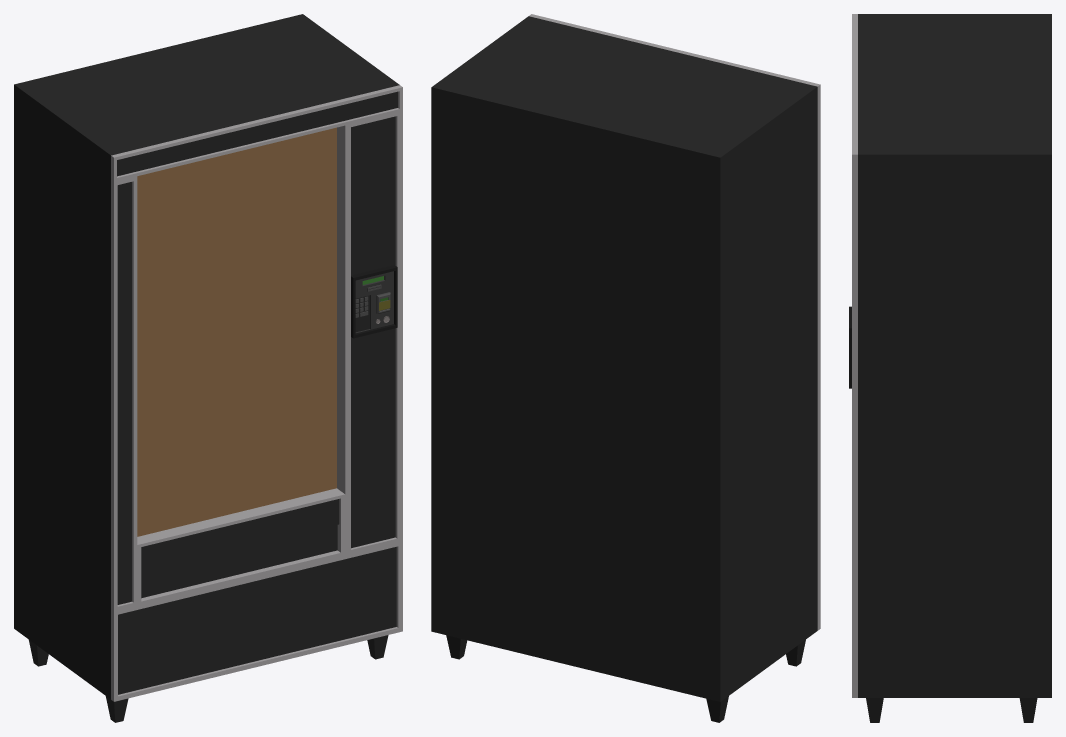
The model's file is CityObjects.fbx_VendingMachine.fbx.
The picture shows the model from 3 angles, left to right: view 1: azimuth 30°, elevation 25°; view 2: azimuth 150°, elevation 25°; view 3: azimuth 270°, elevation 25°; orthographic projection.
Visible parts, largest first — view 1: VendingMachine; view 2: VendingMachine; view 3: VendingMachine.
Boxes of the visible parts, x1=… form: VendingMachine: x1=14, y1=14, x2=402, y2=722; VendingMachine: x1=431, y1=14, x2=820, y2=722; VendingMachine: x1=849, y1=14, x2=1051, y2=722.
Bounding box in the file's own units: 100 × 190 × 60.9.
